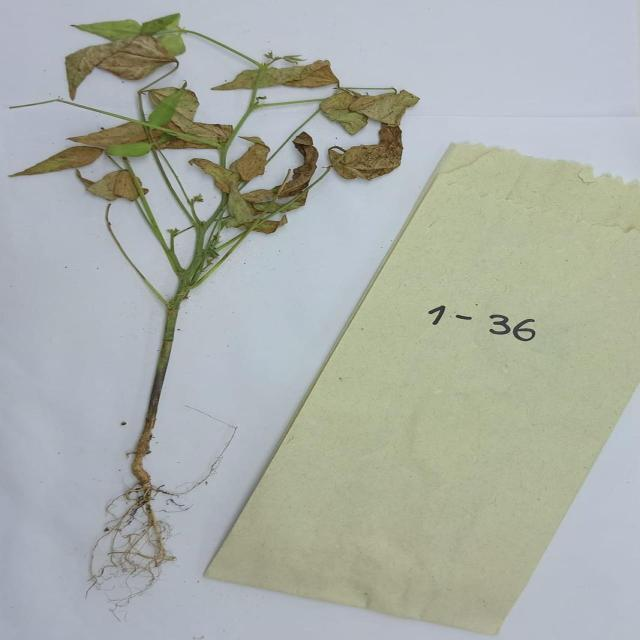Root: (103, 426, 201, 590)
Stem: (126, 257, 233, 318), (140, 303, 186, 430), (174, 197, 255, 261), (132, 202, 186, 272), (186, 20, 266, 65), (147, 152, 190, 205), (223, 88, 269, 134), (240, 96, 316, 108)
healty_leaves: (150, 80, 188, 129), (142, 12, 186, 53), (71, 18, 148, 41), (103, 140, 156, 158)
rooten_leaf: (64, 35, 176, 100), (324, 125, 406, 180), (320, 87, 420, 131), (209, 61, 342, 90), (65, 114, 183, 146), (7, 145, 102, 172), (70, 170, 148, 200), (286, 132, 318, 198), (189, 157, 243, 196), (150, 87, 202, 127), (235, 133, 270, 179), (221, 190, 256, 226), (239, 183, 294, 204), (236, 216, 292, 236)
